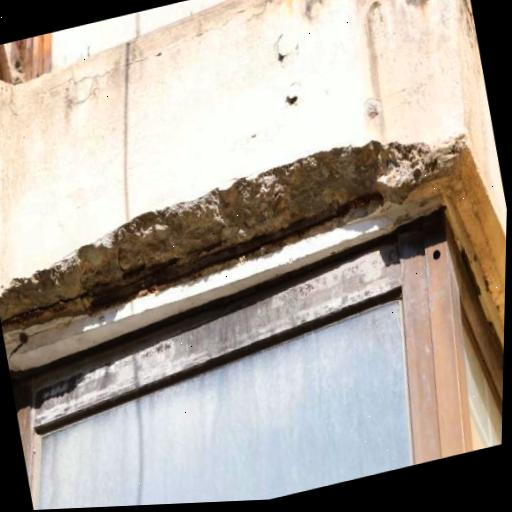exposed_rebar: (91, 191, 383, 309)
spalling: (0, 141, 461, 332)
